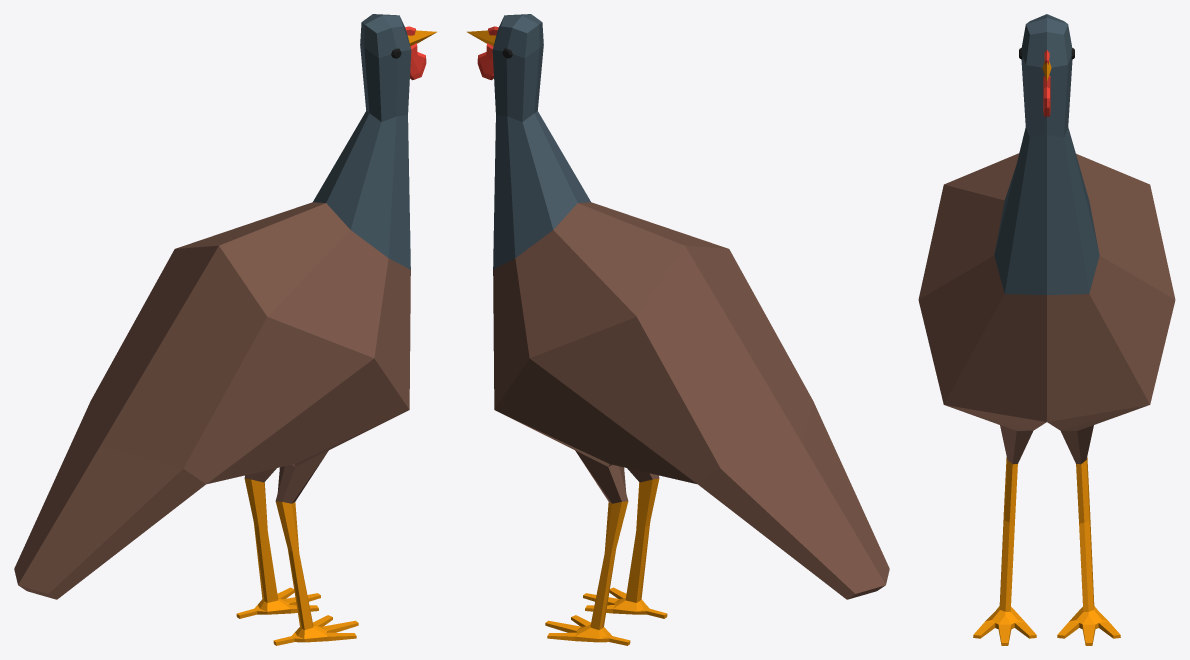
The model's file is turkey.glb.
3 views of the same model, side by side, from view 1: azimuth 30°, elevation 25°; view 2: azimuth 150°, elevation 25°; view 3: azimuth 270°, elevation 25° (orthographic). The views are drawn at different scales.
Visible parts, largest first — view 1: Turkey_01_Cube.056; view 2: Turkey_01_Cube.056; view 3: Turkey_01_Cube.056.
Part boxes in pixels (<box>): Turkey_01_Cube.056: <box>14,14,436,645</box>; Turkey_01_Cube.056: <box>467,14,889,645</box>; Turkey_01_Cube.056: <box>918,14,1175,645</box>.
Bounding box in the file's own units: 11.19 × 14.91 × 5.32.
